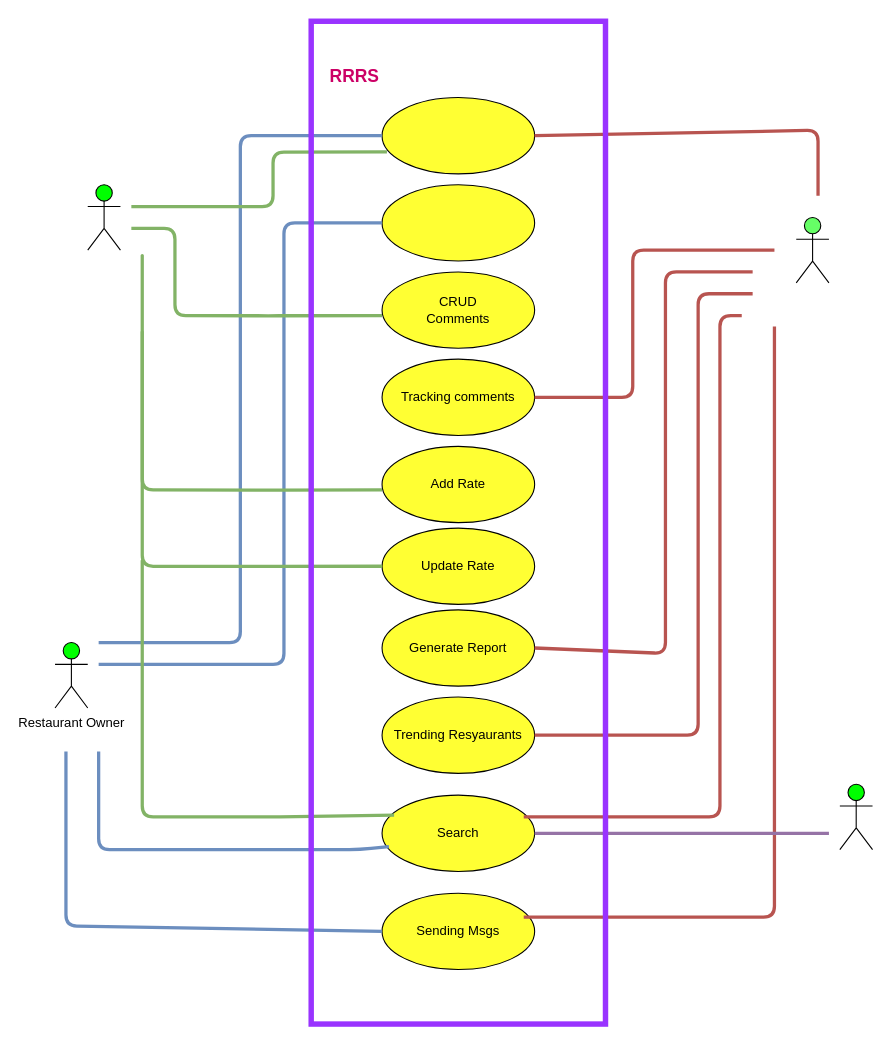
The diagram is 893 pixels wide and 1045 high, and some of its shapes have lost their labels. Here are the shapes that lost their labels. From the top down, the box of each, then its label:
(381, 96, 535, 174): log in
(87, 184, 120, 250): User
(381, 184, 535, 261): CRUD Restaurant
(795, 216, 829, 283): Manager
(839, 783, 873, 850): Guest
